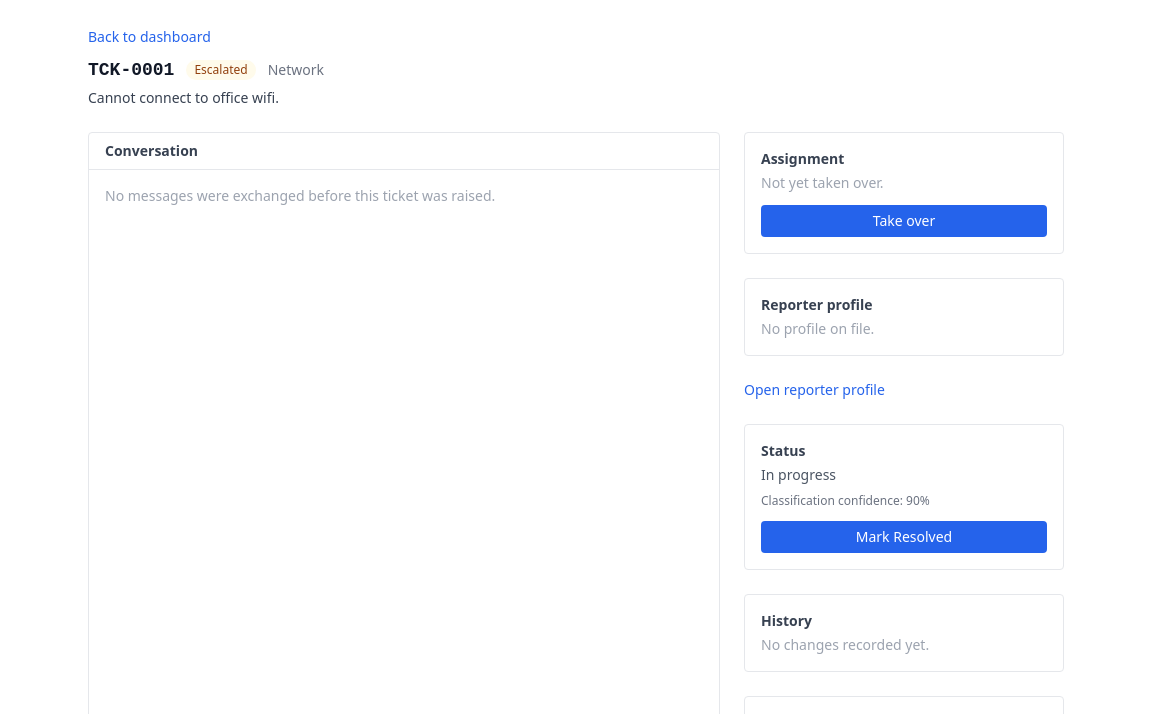
Test: TicketDetailPage assignment › takes over an unassigned ticket and then shows the assignee
The width and height of the screenshot is (1152, 714).
Expected: the heading "TCK-0001" is shown, x1=88 y1=56 x2=174 y2=84
Click the button "Take over" at (904, 221), box x1=761 y1=205 x2=1047 y2=237
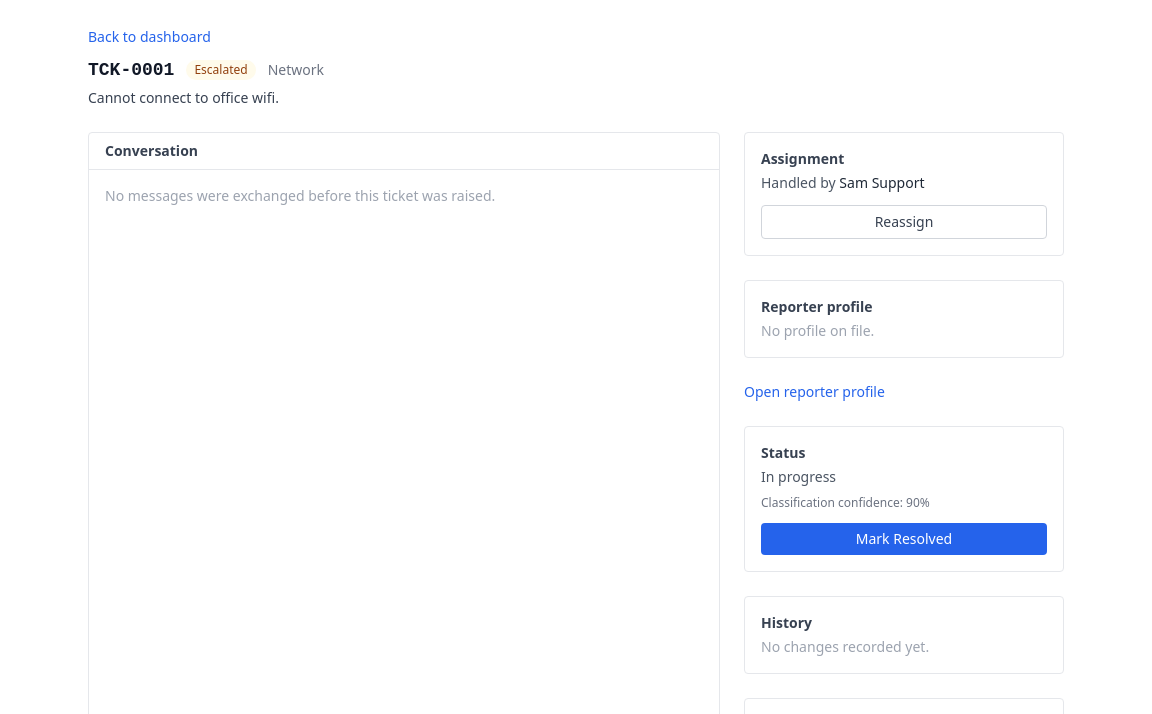
Now the text "Sam Support" is shown, box x1=839 y1=173 x2=924 y2=192
Now the button "Reassign" is shown, box x1=761 y1=205 x2=1047 y2=239
